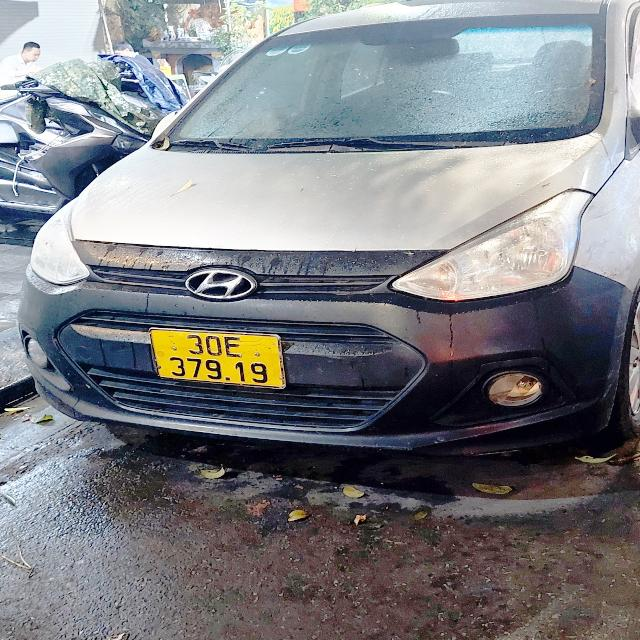license_plate: (146, 328, 290, 392)
